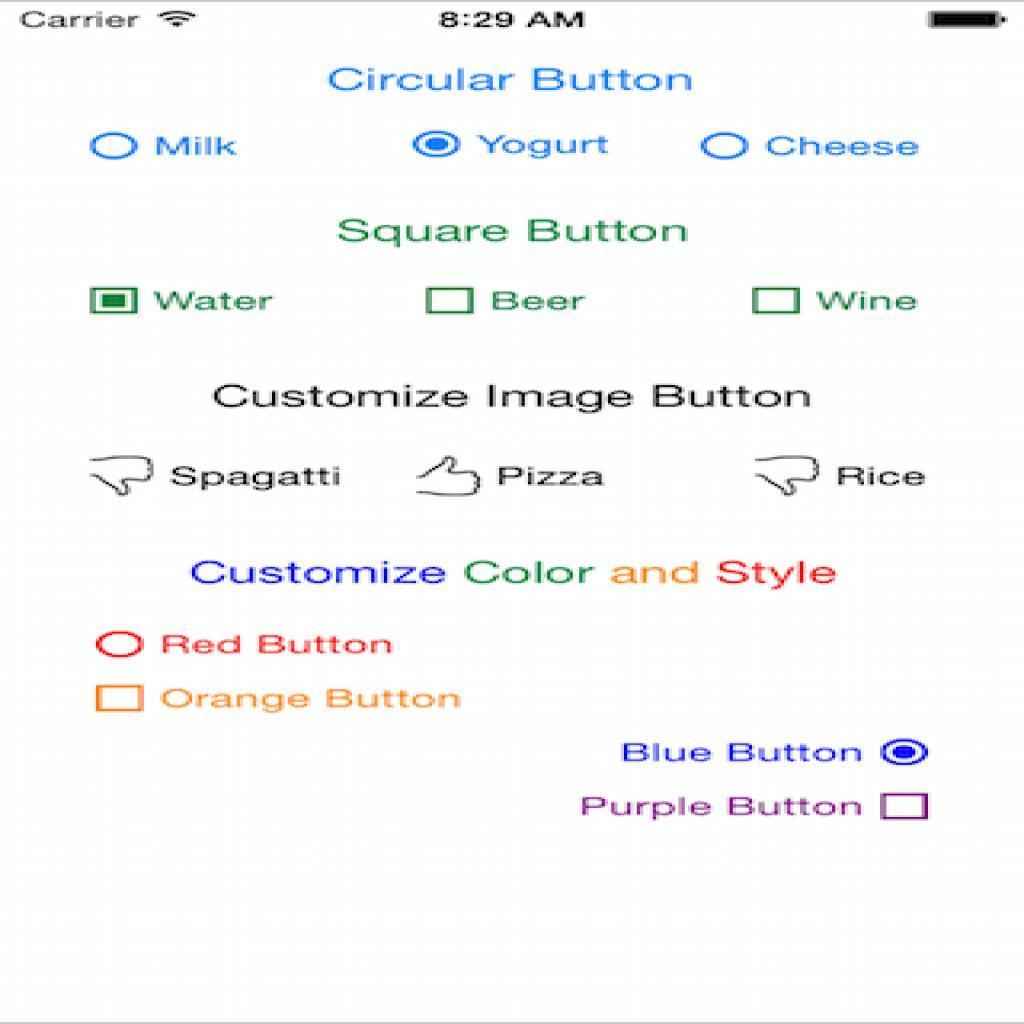checkbox: (96, 686, 147, 716)
label: (581, 791, 868, 825), (161, 687, 467, 715), (617, 738, 865, 770), (162, 635, 403, 663), (762, 131, 925, 164), (154, 284, 282, 321), (817, 284, 927, 321), (482, 132, 619, 161), (491, 287, 591, 319), (154, 132, 243, 164)
radio: (86, 284, 143, 319), (407, 129, 465, 162), (701, 130, 752, 166), (426, 284, 479, 318), (92, 631, 149, 661), (751, 285, 802, 318), (89, 132, 142, 163), (880, 739, 932, 769), (880, 792, 931, 821)
